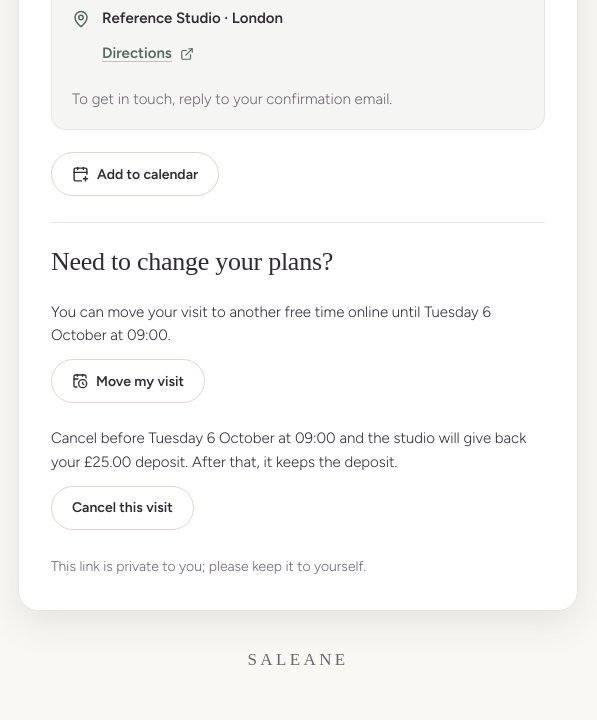
says when only times a clear patch test covers can be chosen (Stage 3)
This screenshot has width=597, height=720.
(page scrolled)
Click the button "Move my visit" at {"x": 128, "y": 381}, box [51,359,205,403]
(page scrolled)
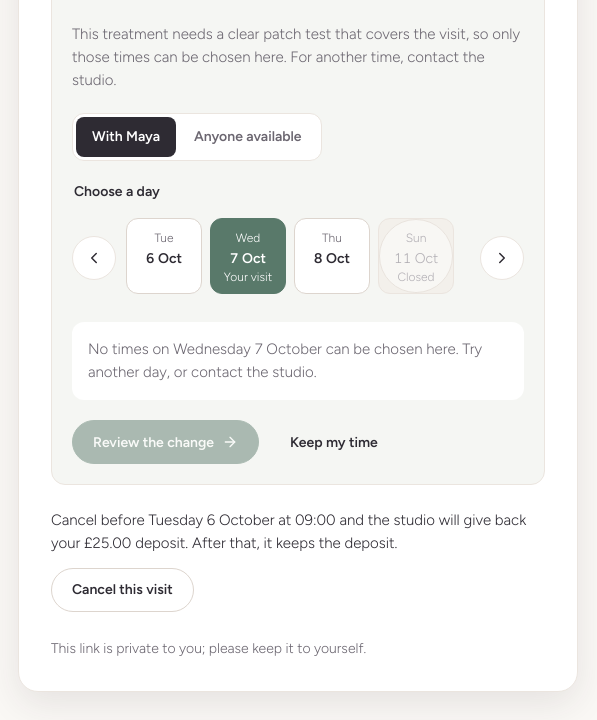
expect the text "This treatment needs a clear patch test that covers the visit, so only those times can be chosen here. For another time," is shown: met, box [72,25,520,89]
expect the text "No times on Wednesday 7 October can be chosen here. Try another day, or contact the studio." is shown: met, box [88,340,482,381]
